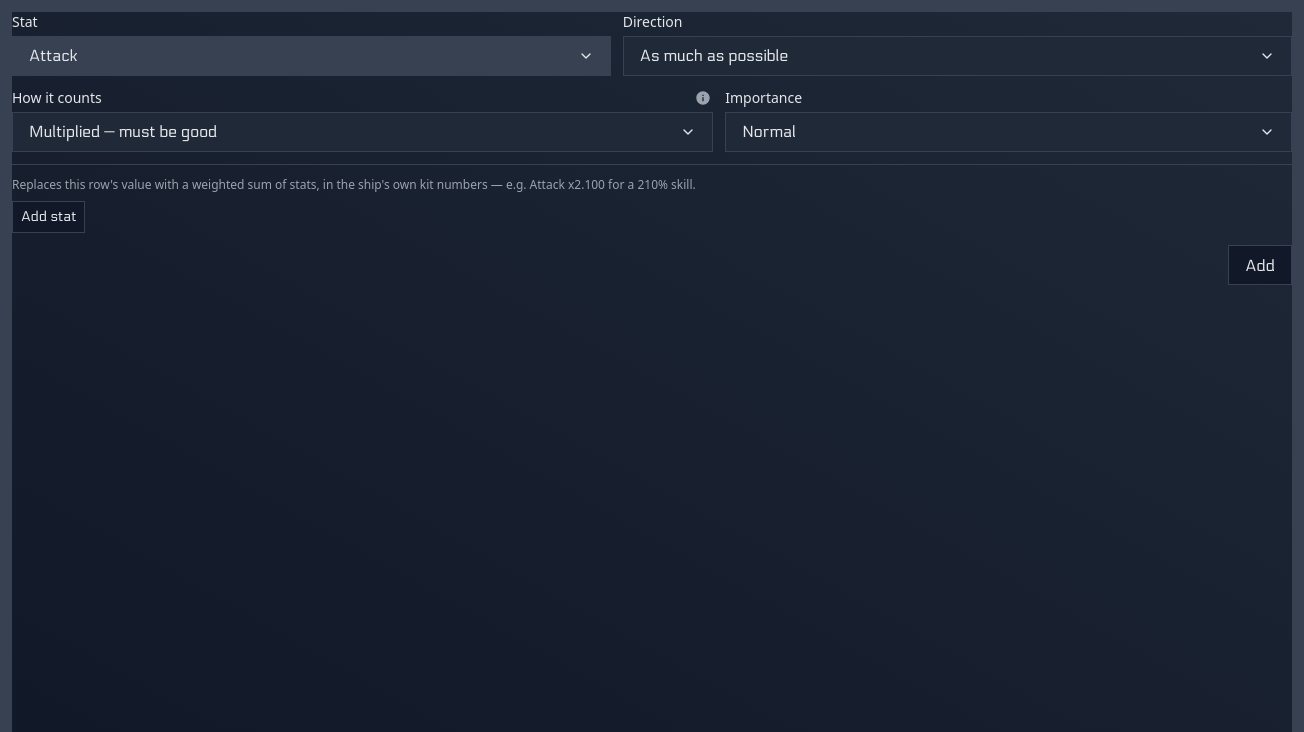
Test: CustomFormulaForm › rejects a blank basis weight instead of silently submitting a 0-weight term
Click the button "Add stat".
click(49, 217)  # box [12,201,86,233]
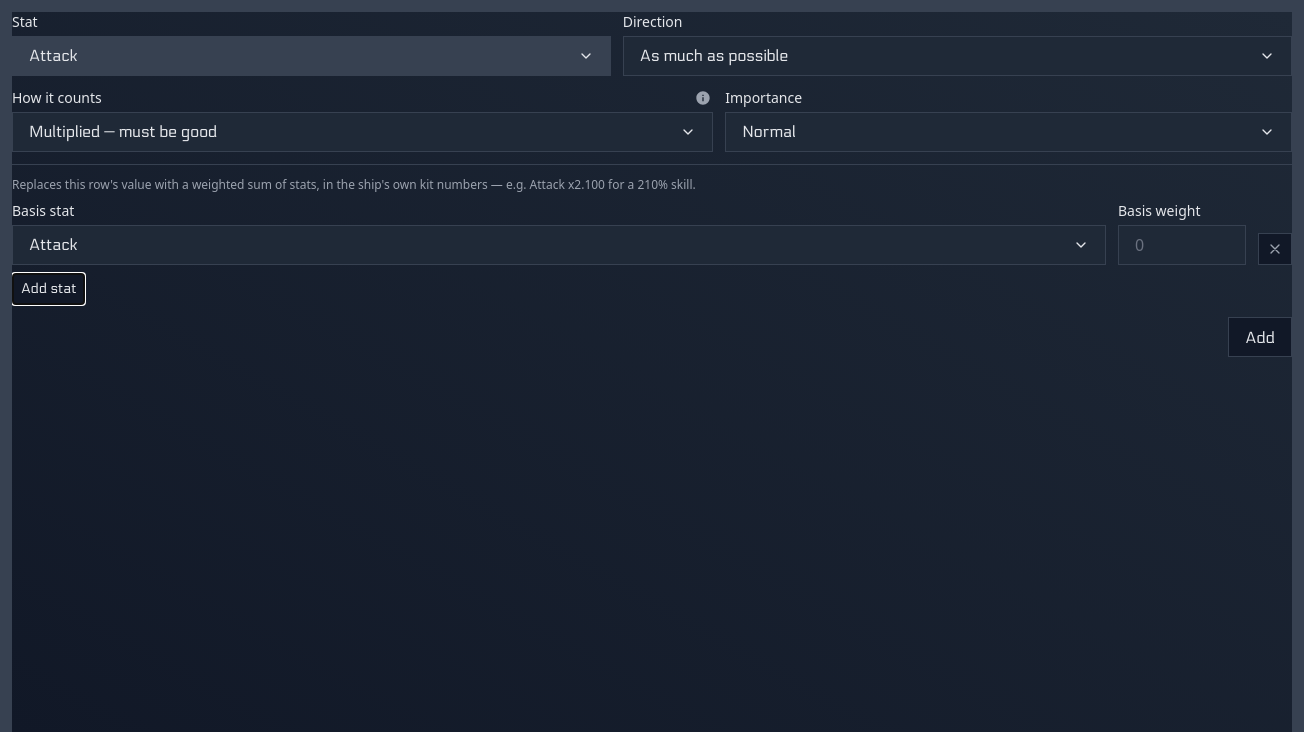
Click the button with aria-label "add formula stat".
click(1260, 337)  # box [1228,317,1292,357]
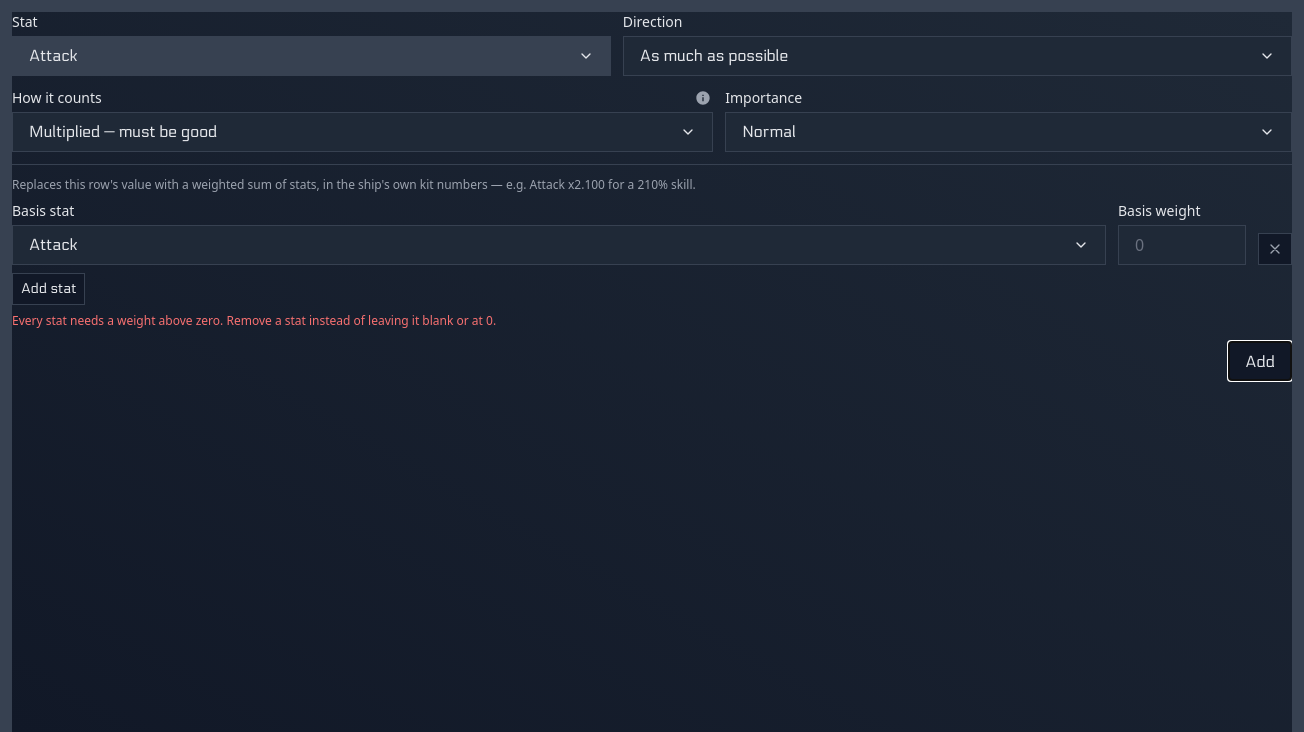
Check: the message shows "Every stat needs a weight above zero. Remove a stat instead of leaving it blank or at 0.", box [12,312,496,329]
